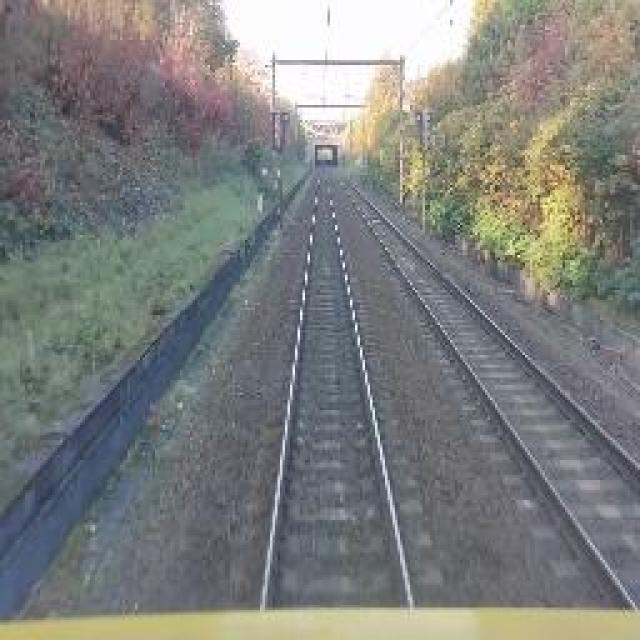rail: (223, 160, 459, 607)
